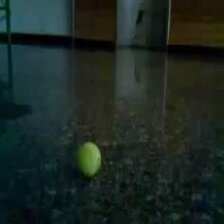tennis: (74, 143, 102, 176)
